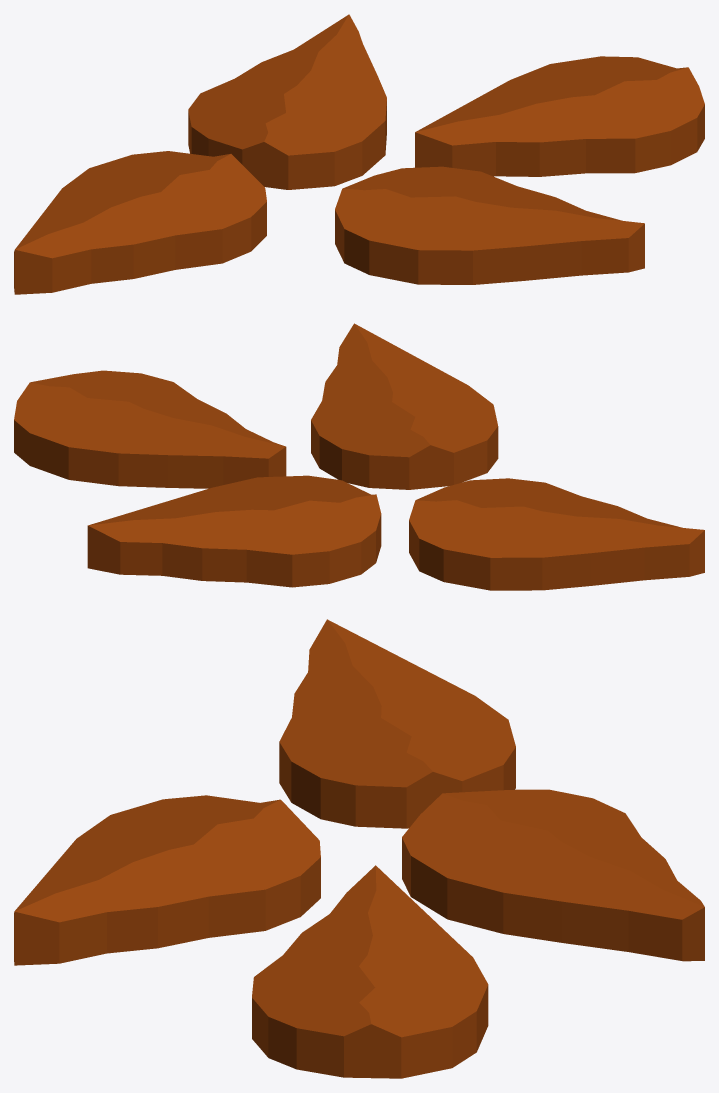
File: Kwaki Seeds.fbx
3 views of the same model, one above another, from view 1: azimuth 30°, elevation 25°; view 2: azimuth 150°, elevation 25°; view 3: azimuth 270°, elevation 25° (orthographic). The views are drawn at different scales.
Parts seen in each view (by area): view 1: Plane; view 2: Plane; view 3: Plane.
Boxes of the visible parts, x1,y1,x2,y2 form: Plane: [14, 14, 704, 294]; Plane: [14, 323, 704, 590]; Plane: [14, 619, 704, 1078].
Size of the model in its own units: 421 by 26.15 by 303.
